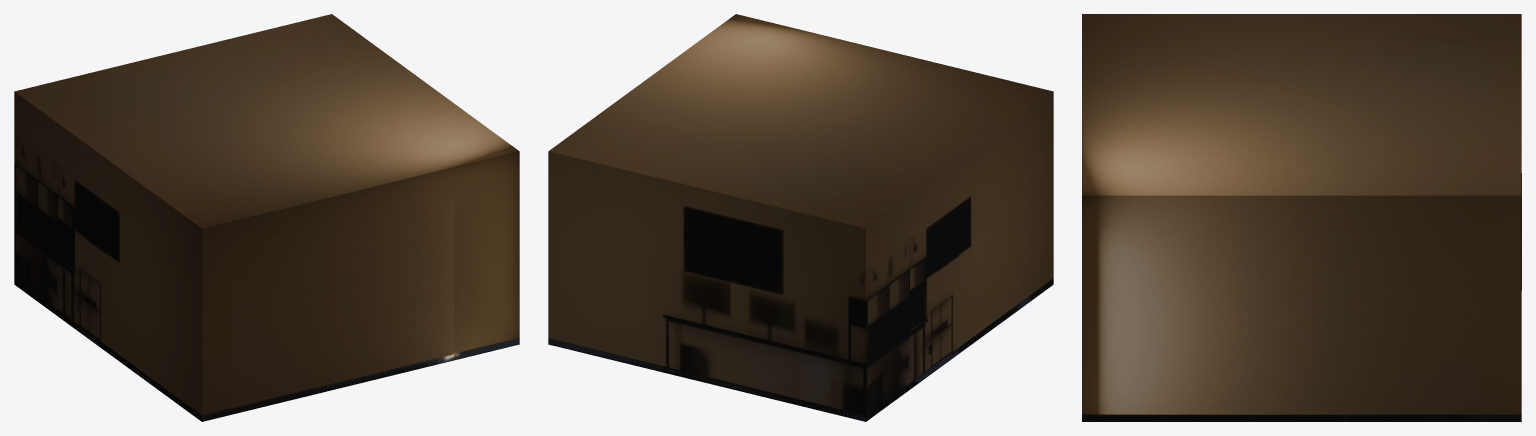
Rendered from room.glb.
The picture shows the model from 3 angles, left to right: view 1: azimuth 30°, elevation 25°; view 2: azimuth 150°, elevation 25°; view 3: azimuth 270°, elevation 25°; orthographic projection. The views are drawn at different scales.
Visible parts, largest first — view 1: baked_room; view 2: baked_room; view 3: baked_room.
Boxes of the visible parts, x1,y1,x2,y2 form: baked_room: [14, 14, 519, 421]; baked_room: [548, 14, 1053, 421]; baked_room: [1082, 14, 1521, 421].
Bounding box in the file's own units: 4.3 × 2.5 × 4.4.
13 materials, 3 textured.
